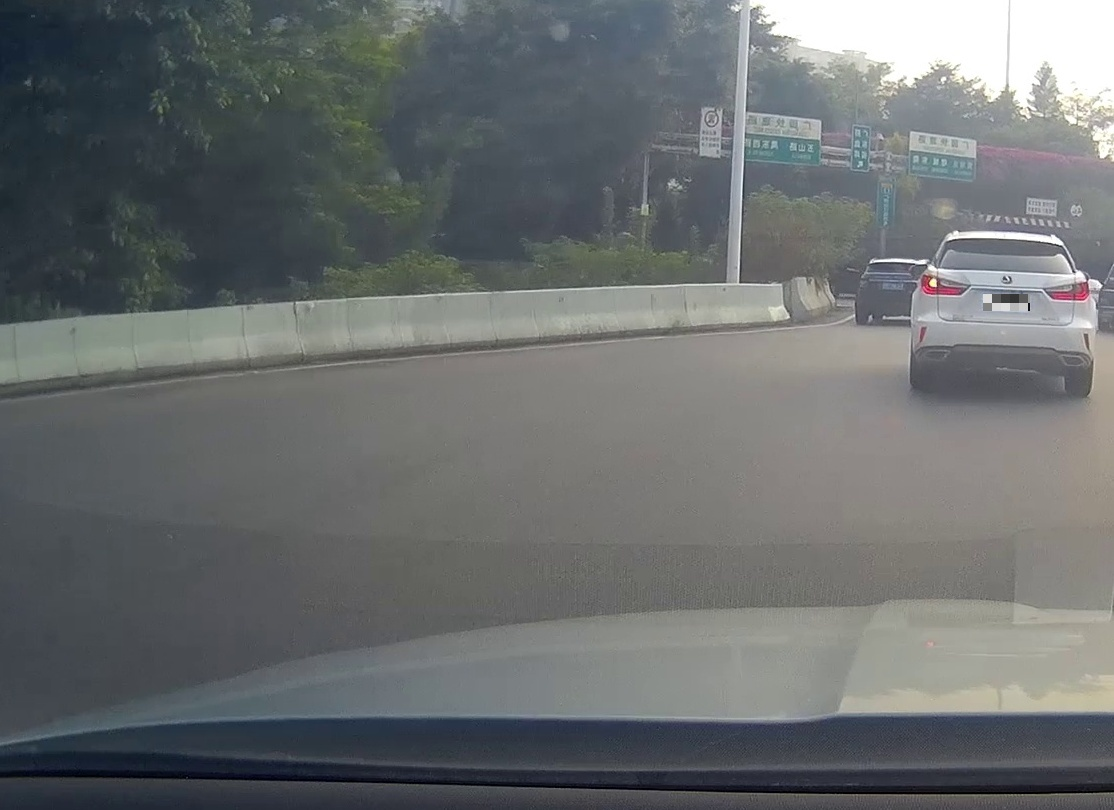L_light: (921, 274, 971, 296)
R_light: (1043, 281, 1090, 301)
T_light: (995, 240, 1014, 244)
day-left: (910, 233, 1096, 397)
plate_1: (983, 294, 1030, 311)
